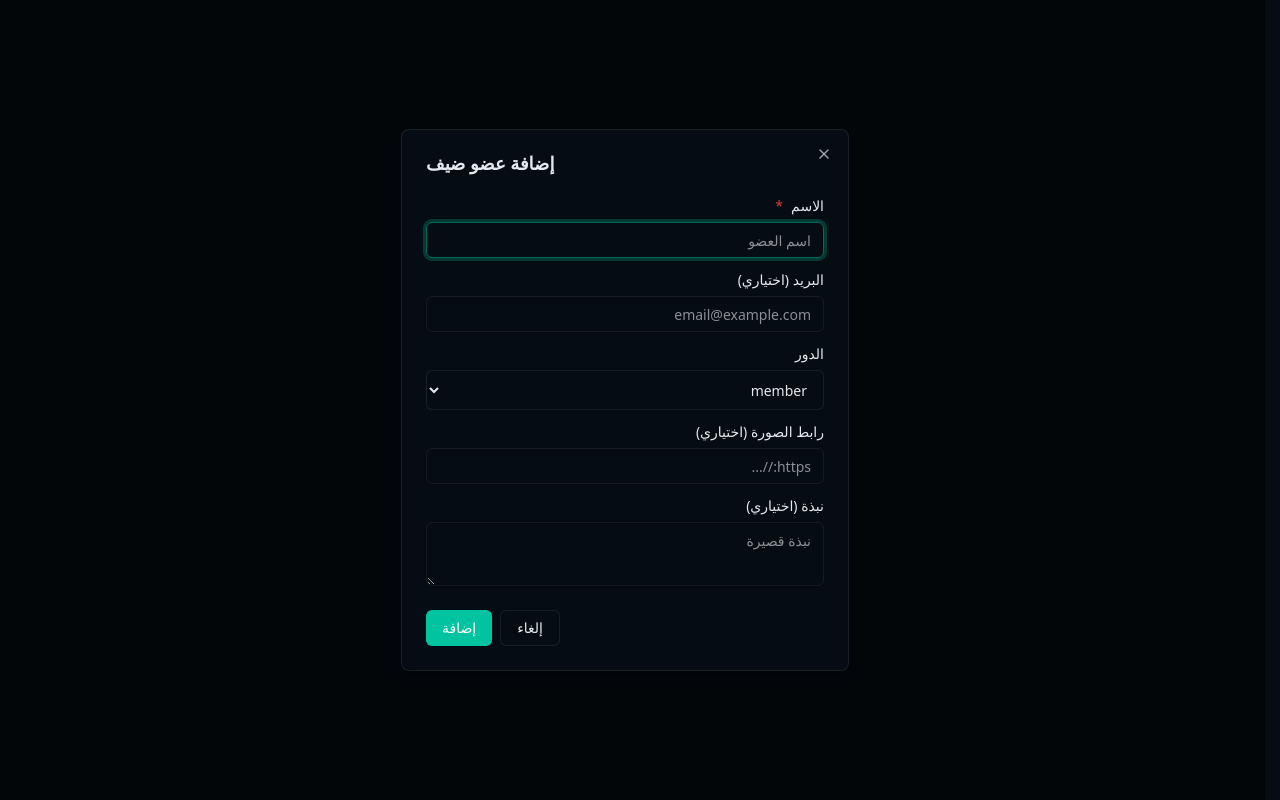
it: TeamGhostMemberModal › shows validation error when name empty
Click the button "إضافة" at [459, 628], box [426, 610, 492, 646]
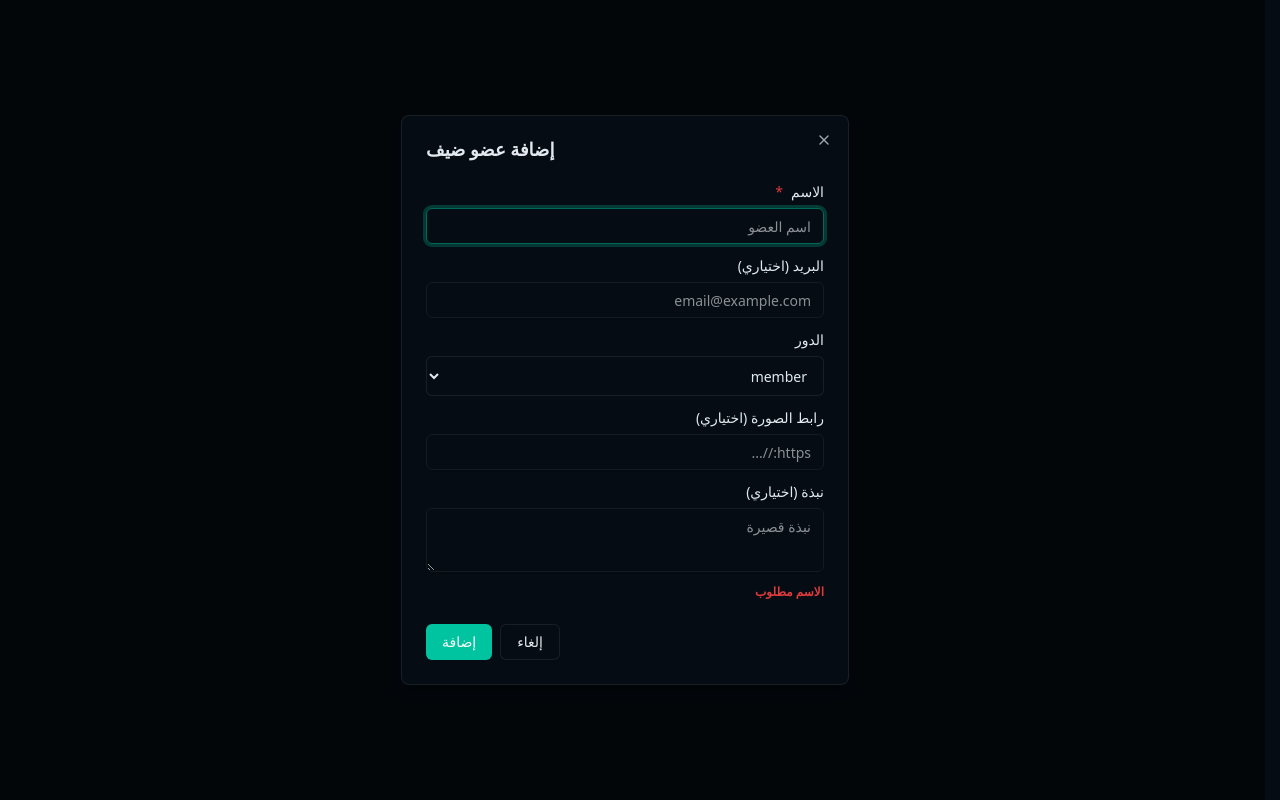
Check: the text "الاسم مطلوب" is shown, box [755, 583, 824, 600]
